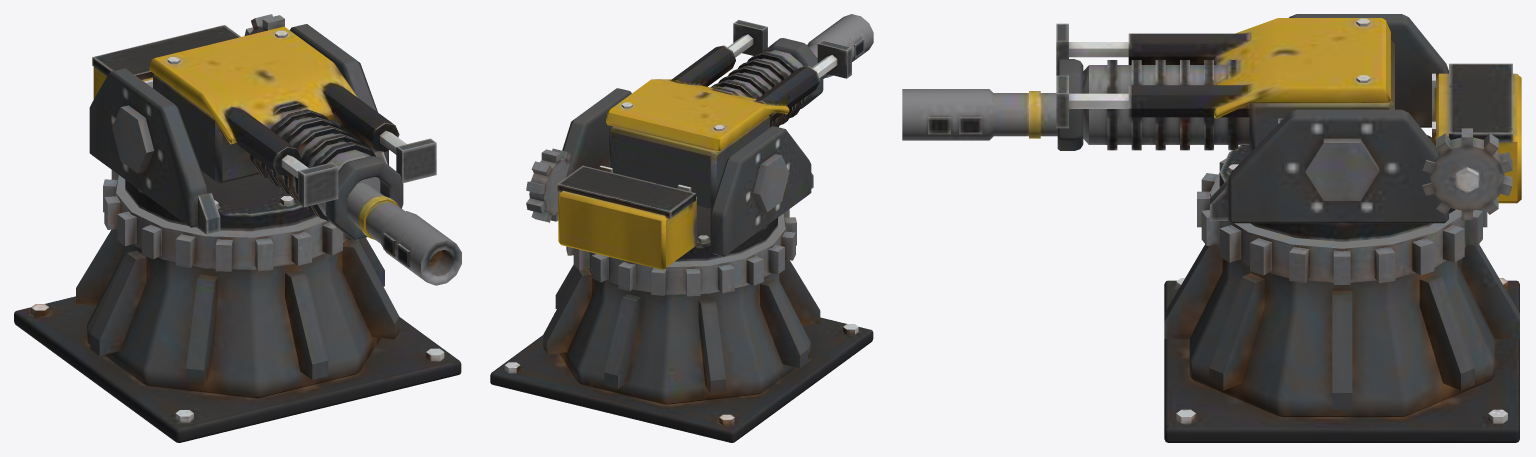
Rendered from R4W_Basic_LOD1.glb.
3 renders of one model, left to right at view 1: azimuth 30°, elevation 25°; view 2: azimuth 150°, elevation 25°; view 3: azimuth 270°, elevation 25°, orthographic. The views are drawn at different scales.
Parts seen in each view (by area): view 1: R4W_Basic_LOD1; view 2: R4W_Basic_LOD1; view 3: R4W_Basic_LOD1.
Boxes of the visible parts, bbox=[...] form: R4W_Basic_LOD1: bbox=[14, 14, 461, 442]; R4W_Basic_LOD1: bbox=[490, 14, 873, 442]; R4W_Basic_LOD1: bbox=[902, 14, 1521, 442].
Size of the model in its own units: 0.5 by 0.496 by 0.87.
4 materials, 4 textured.
